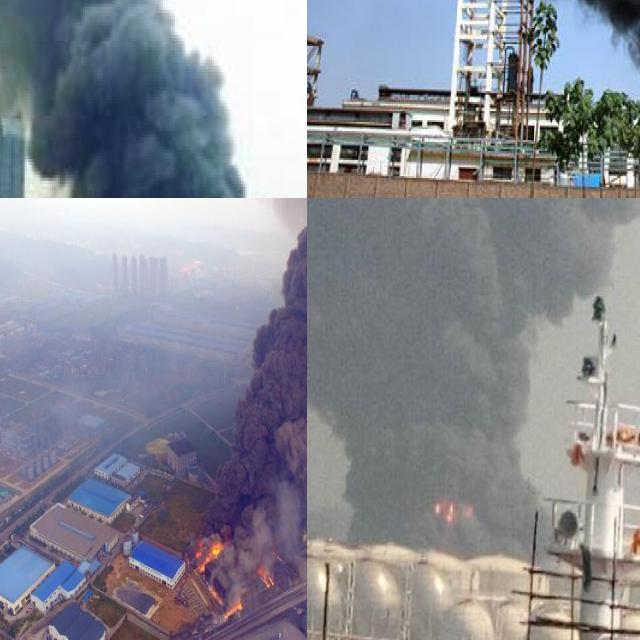fire: (192, 529, 240, 615), (434, 494, 474, 526), (194, 534, 224, 572), (256, 559, 276, 588)
smoke: (307, 198, 640, 558), (0, 0, 279, 198), (202, 198, 307, 590), (307, 0, 640, 110)
